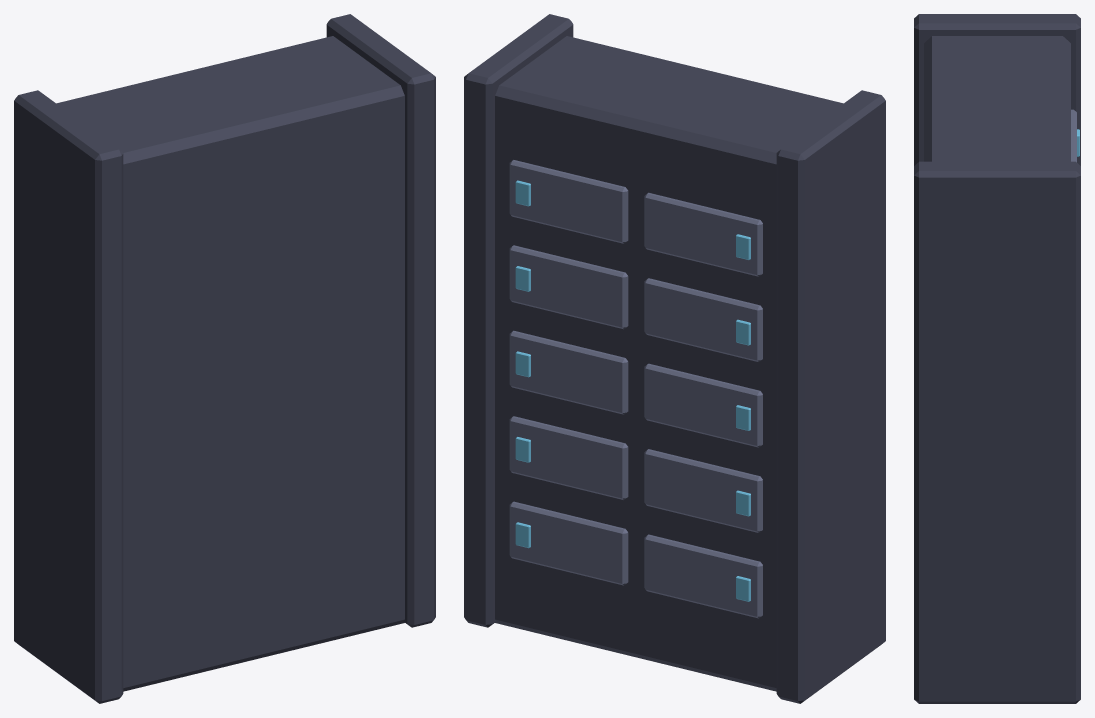
File: ArchiveMonolithRack.fbx
The picture shows the model from 3 angles, left to right: view 1: azimuth 30°, elevation 25°; view 2: azimuth 150°, elevation 25°; view 3: azimuth 270°, elevation 25°; orthographic projection. The views are drawn at different scales.
Visible parts, largest first — view 1: Archive_Cabinet; view 2: Archive_Cabinet, Archive_TapeModules, Archive_IndicatorNodes; view 3: Archive_Cabinet, Archive_TapeModules.
Boxes of the visible parts, <box> form: Archive_Cabinet: <box>14,14,435,703</box>; Archive_Cabinet: <box>464,14,885,703</box>; Archive_TapeModules: <box>509,160,762,618</box>; Archive_IndicatorNodes: <box>515,180,750,601</box>; Archive_Cabinet: <box>914,14,1080,703</box>; Archive_TapeModules: <box>1071,109,1076,162</box>.
Size of the model in its own units: 1.92 by 2.96 by 0.84.
